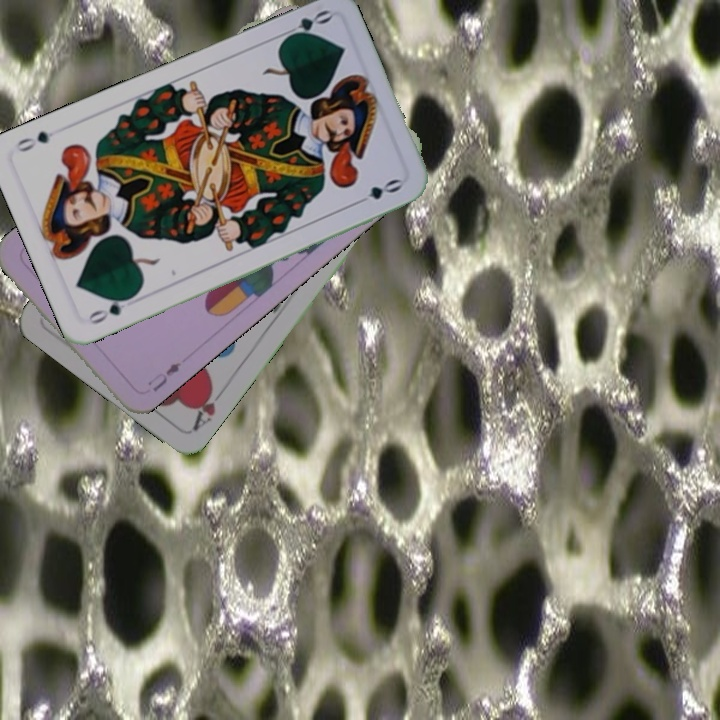EU: (143, 358, 184, 394)
GO: (277, 5, 334, 44), (83, 291, 137, 327)
HA: (188, 379, 229, 434)
